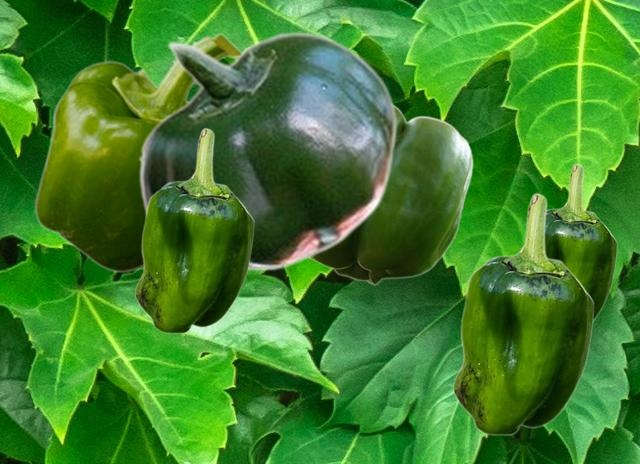bell_pepper: (137, 31, 396, 270), (34, 33, 240, 272), (452, 192, 593, 435), (310, 105, 472, 284), (134, 127, 253, 333), (546, 163, 616, 321)
